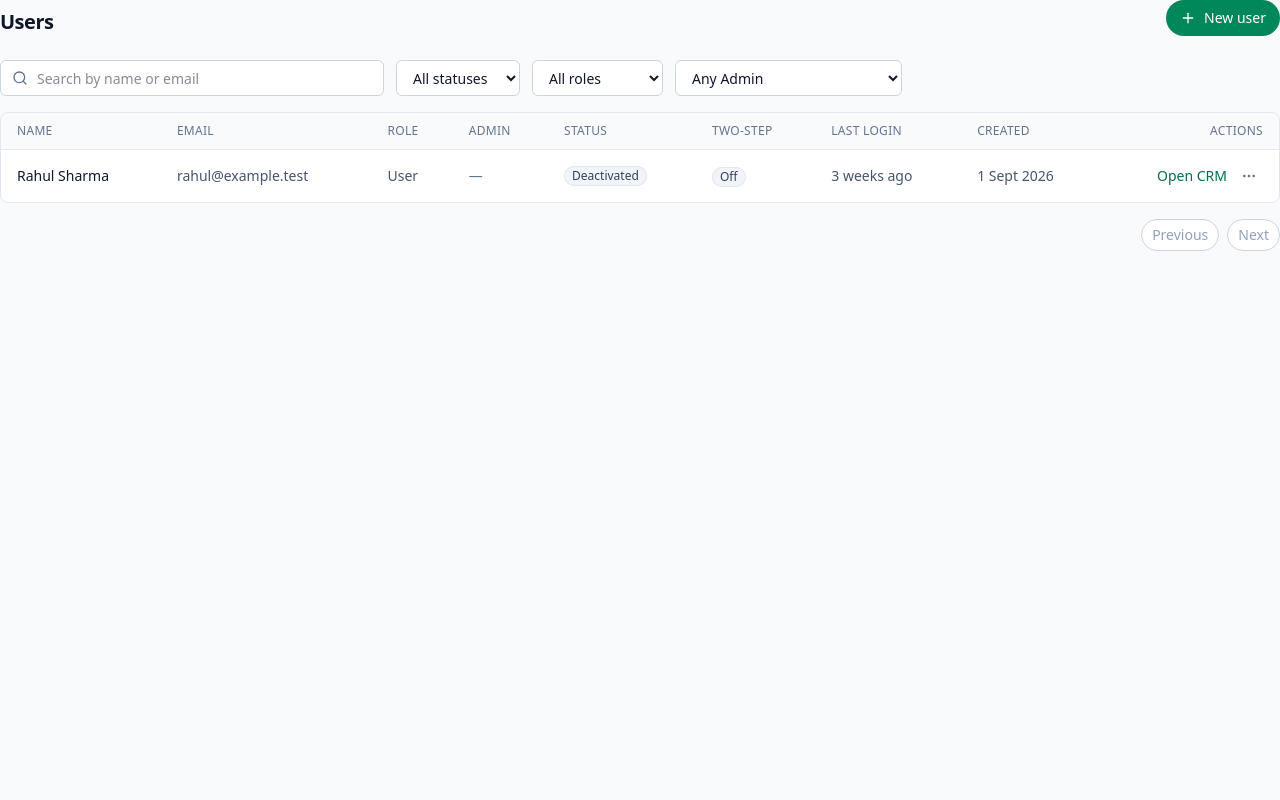
Test: a user's privacy actions, from their details › shows the server's refusal (a user who still owns current work)
Click the button "Rahul Sharma" at point(63, 176), box left=17, top=166, right=109, bottom=186
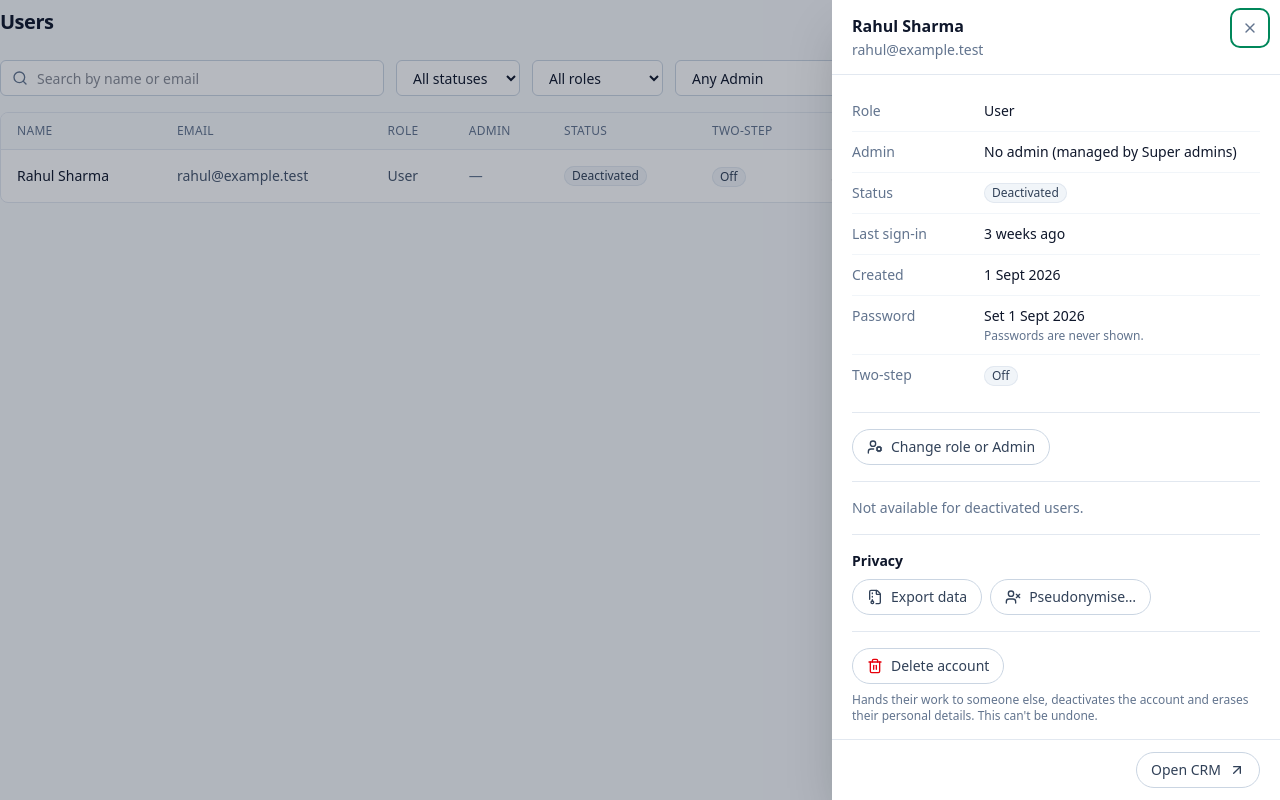
Click the button "Pseudonymise…" at point(1071, 597), box left=990, top=579, right=1151, bottom=615
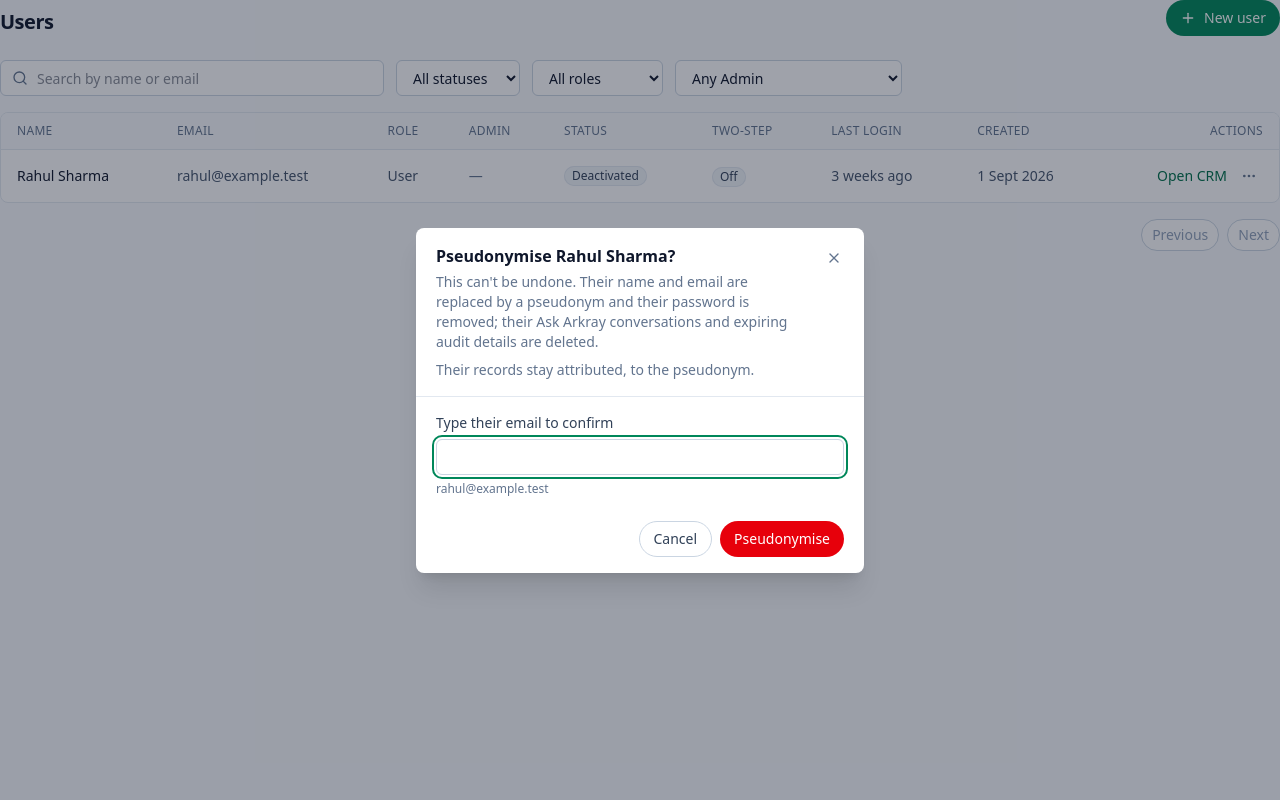
Type "Rahul@Example.test" into the field labelled "Type their email to confirm" at point(640, 456), box left=436, top=438, right=844, bottom=474
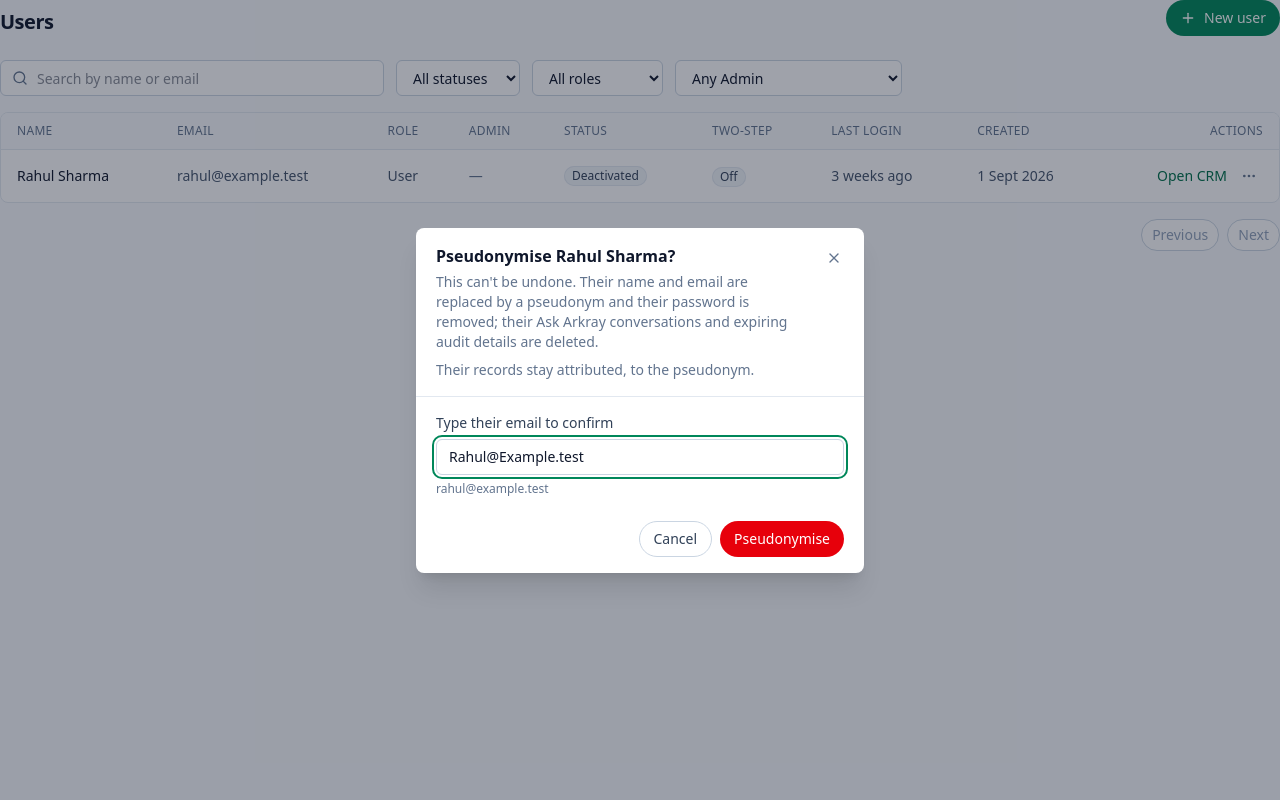
Click the button "Pseudonymise" at point(782, 538), box left=720, top=520, right=844, bottom=556
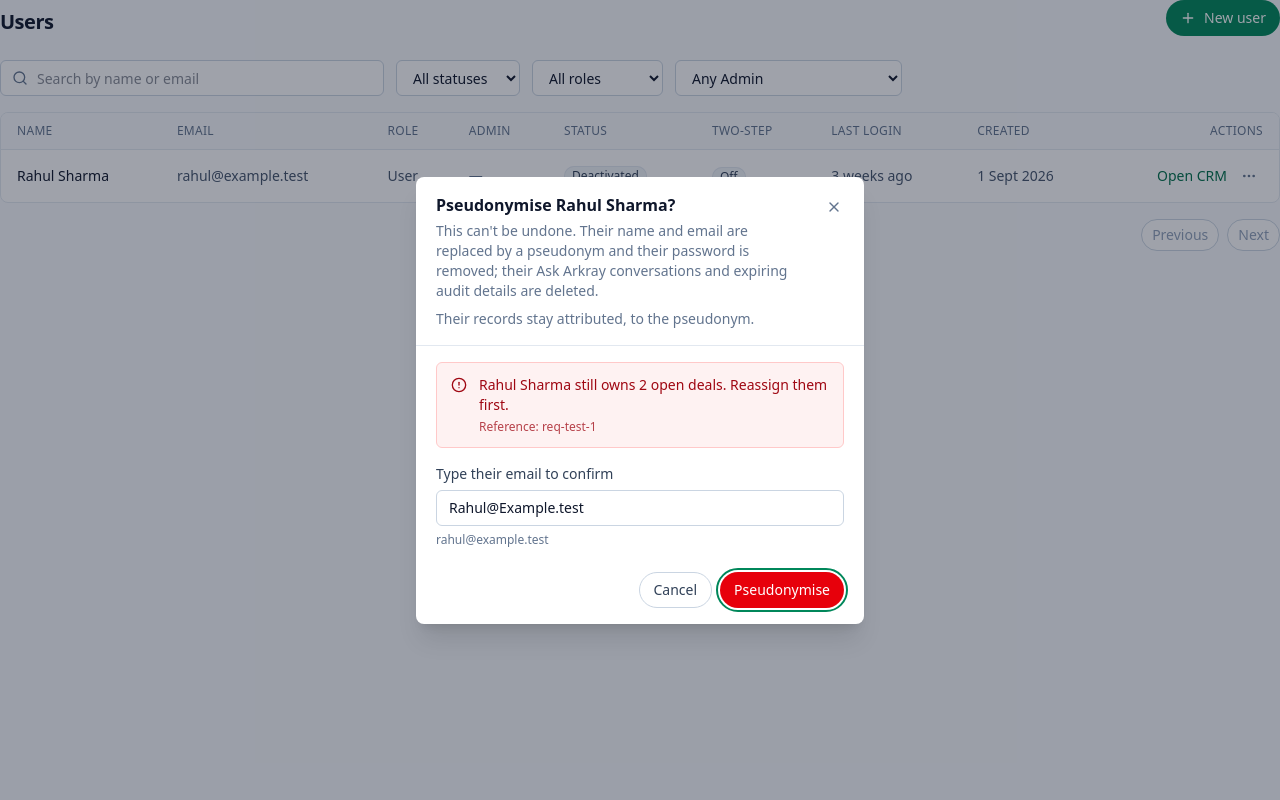
Check: the message shows "still owns 2 open deals", box left=479, top=374, right=827, bottom=414
